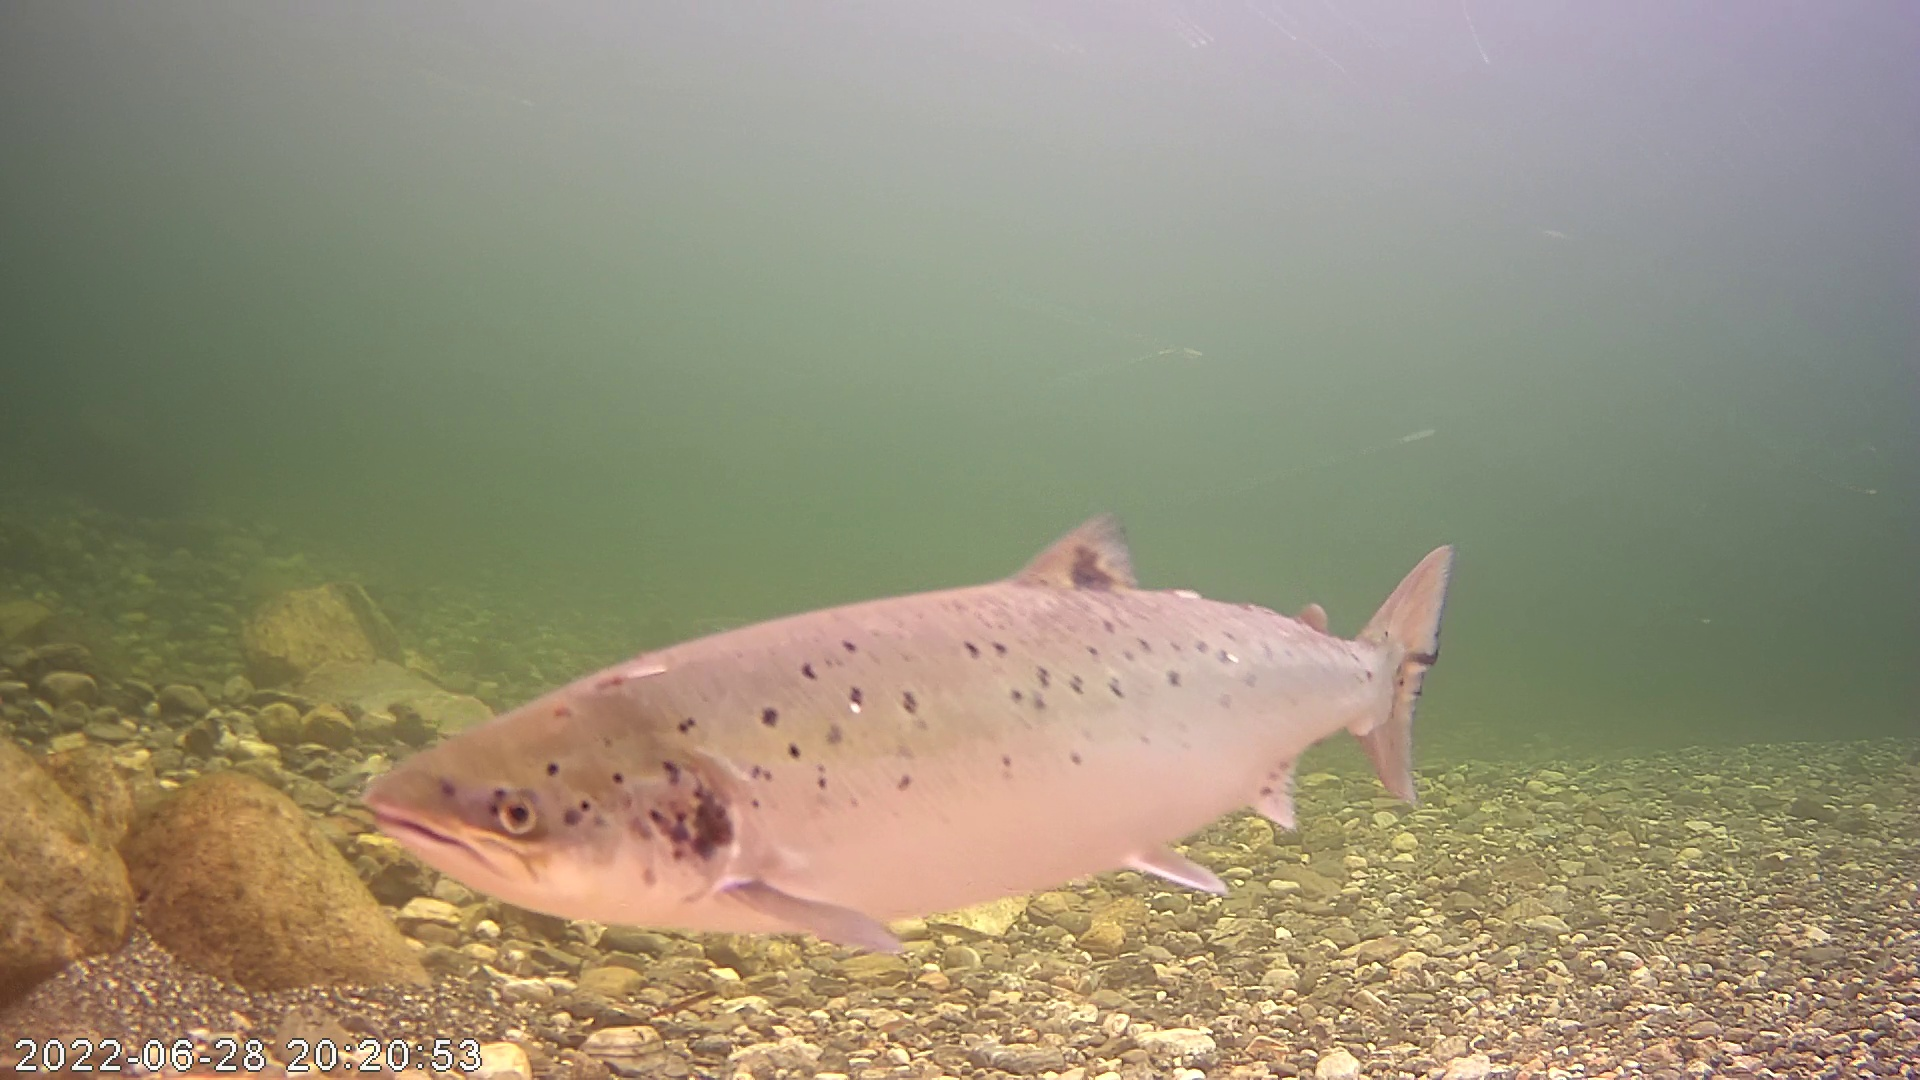salmon: (372, 477, 1455, 945)
